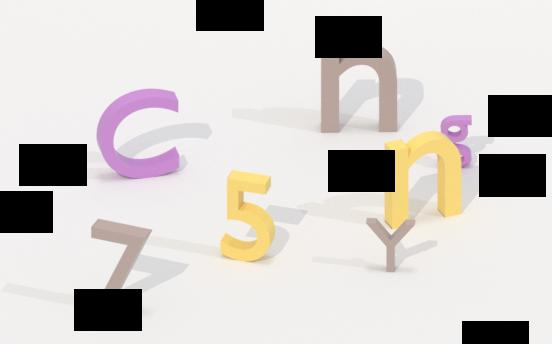5: (219, 168, 278, 270)
7: (87, 215, 154, 315)
Y-hoa: (363, 211, 419, 277)
c: (94, 84, 184, 182)
g: (440, 112, 474, 172)
n: (382, 130, 465, 233), (318, 40, 401, 139)
